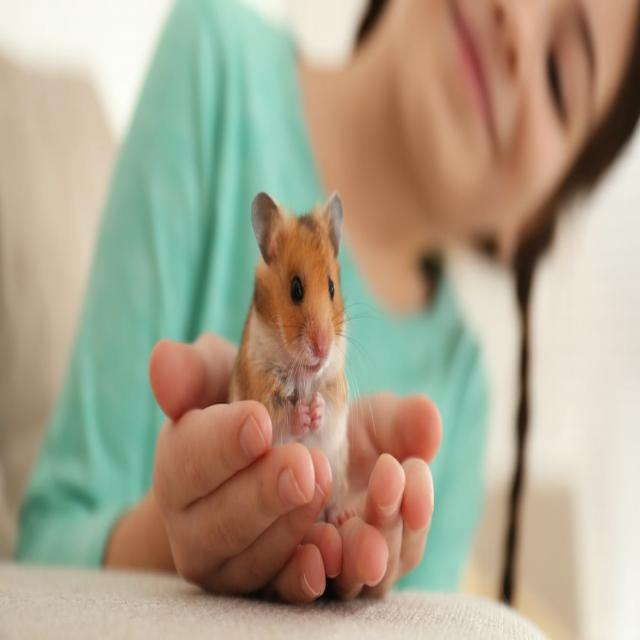hamster: (234, 186, 359, 524)
